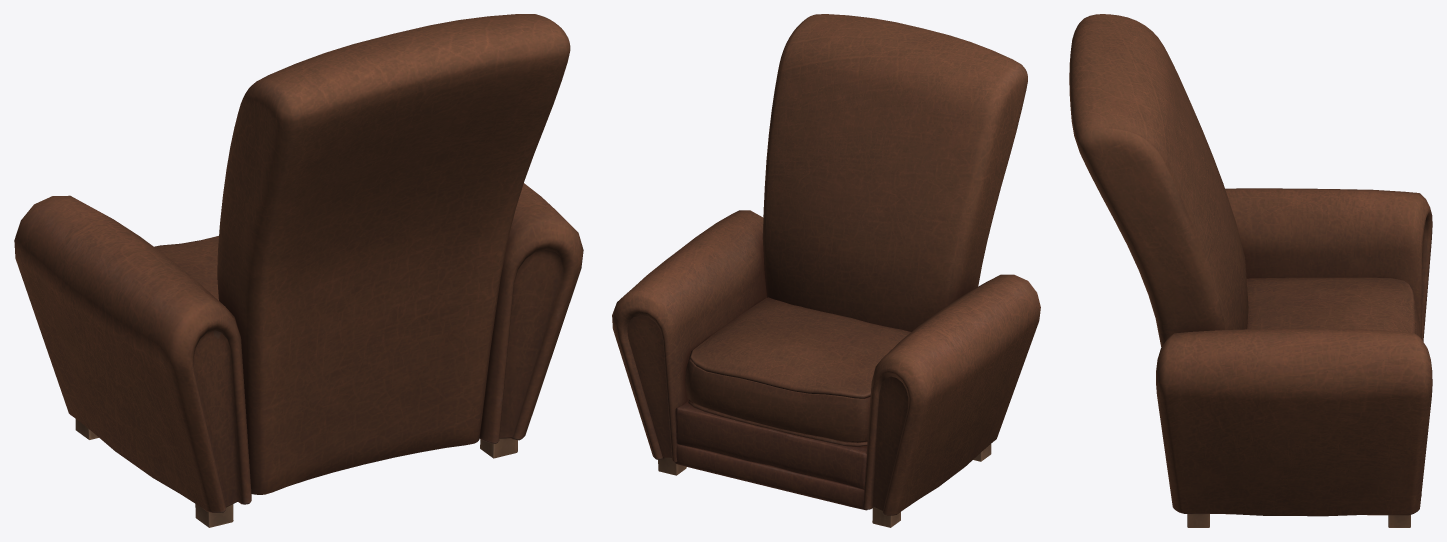
File: SM_LeatherCouch.fbx
3 renders of one model, left to right at view 1: azimuth 30°, elevation 25°; view 2: azimuth 150°, elevation 25°; view 3: azimuth 270°, elevation 25°, orthographic. The views are drawn at different scales.
Parts seen in each view (by area): view 1: SM_LeatherCouch_LOD0; view 2: SM_LeatherCouch_LOD0; view 3: SM_LeatherCouch_LOD0.
Part boxes in pixels (<box>): SM_LeatherCouch_LOD0: <box>14,14,583,527</box>; SM_LeatherCouch_LOD0: <box>612,14,1040,527</box>; SM_LeatherCouch_LOD0: <box>1069,14,1432,527</box>.
Size of the model in its own units: 136 by 120 by 149.
Materials: 1 (1 with a texture image).
